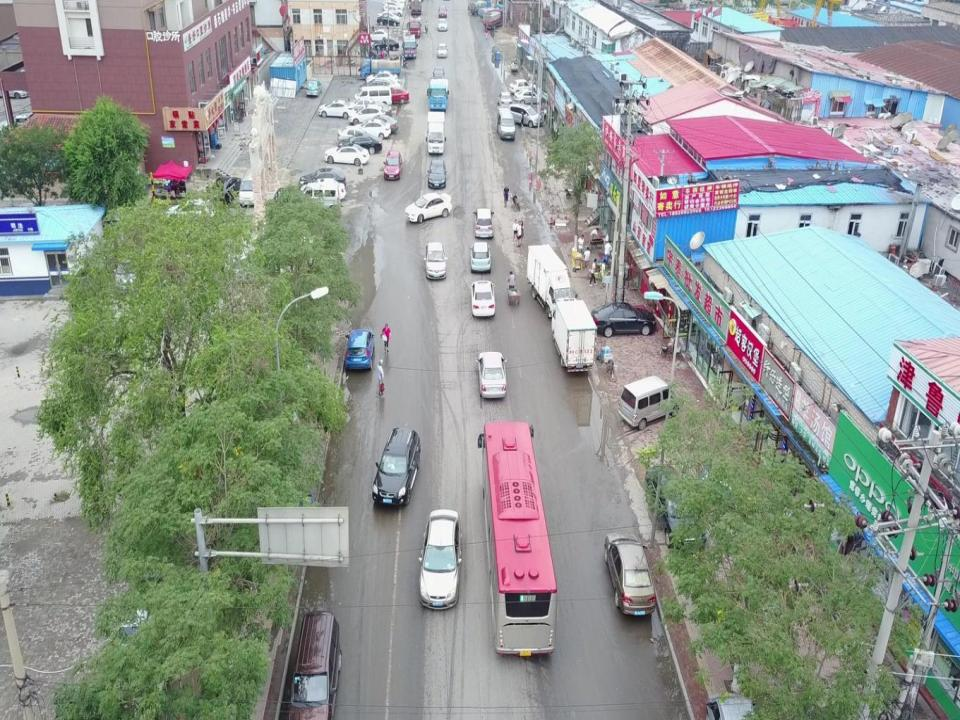bus: (476, 421, 563, 659)
car: (288, 604, 347, 720), (417, 508, 463, 610), (605, 532, 657, 621), (368, 426, 420, 509), (590, 303, 657, 336), (402, 190, 454, 226), (163, 198, 215, 234), (476, 351, 508, 404), (340, 327, 376, 370), (705, 692, 755, 720), (335, 133, 384, 159), (296, 166, 344, 192), (320, 143, 368, 169), (306, 179, 346, 208), (424, 238, 450, 279), (470, 280, 496, 320), (467, 238, 492, 274), (471, 205, 495, 241), (318, 96, 354, 120), (508, 102, 542, 127), (336, 123, 374, 145), (376, 84, 414, 105), (361, 66, 399, 86), (355, 118, 392, 138), (348, 104, 385, 124), (354, 95, 391, 115), (354, 86, 391, 106), (362, 75, 399, 95), (361, 113, 397, 133), (354, 86, 390, 106), (425, 158, 447, 188), (382, 152, 404, 182), (508, 80, 536, 96), (512, 86, 539, 102), (304, 76, 320, 95), (497, 88, 512, 105), (432, 66, 445, 82), (435, 18, 449, 32), (435, 44, 449, 57), (436, 3, 447, 18)
truck: (526, 243, 577, 314), (552, 298, 596, 374), (426, 75, 449, 110), (471, 0, 500, 23), (479, 2, 508, 23), (483, 8, 507, 29), (403, 33, 417, 62), (405, 14, 419, 39), (412, 0, 422, 19)
van: (618, 375, 681, 427), (291, 183, 340, 219), (236, 168, 268, 208), (208, 166, 240, 206), (354, 83, 394, 107), (426, 109, 447, 154), (494, 106, 515, 142)
